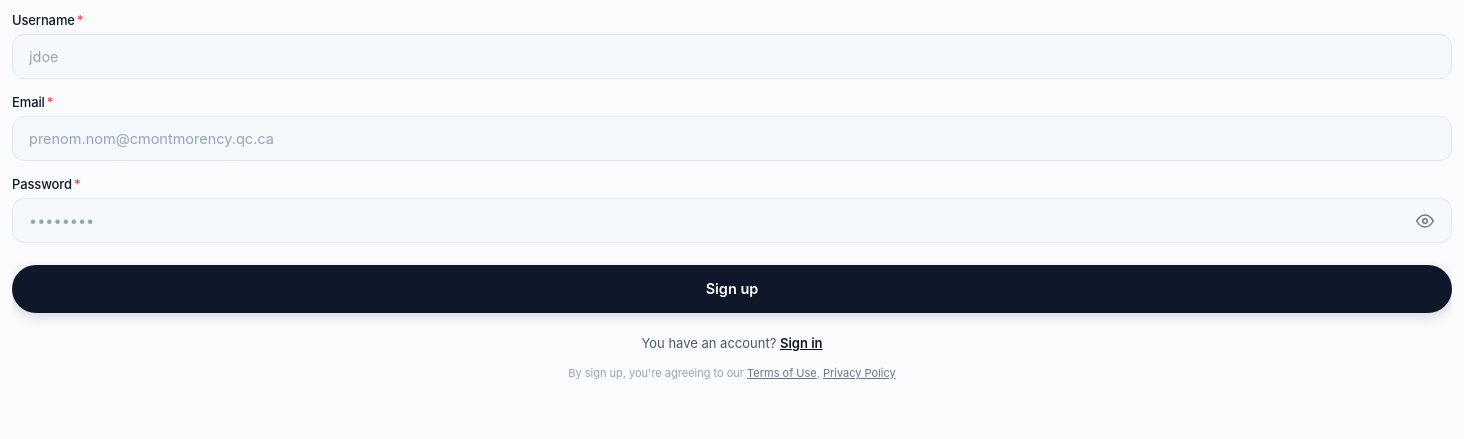
Test case: LoginForm — inscription › refuse un nom d’utilisateur trop court et un mot de passe de moins de 8 caractères
Type "jd" into the field labelled "Username*" at (732, 56), box [12,34,1452,79]
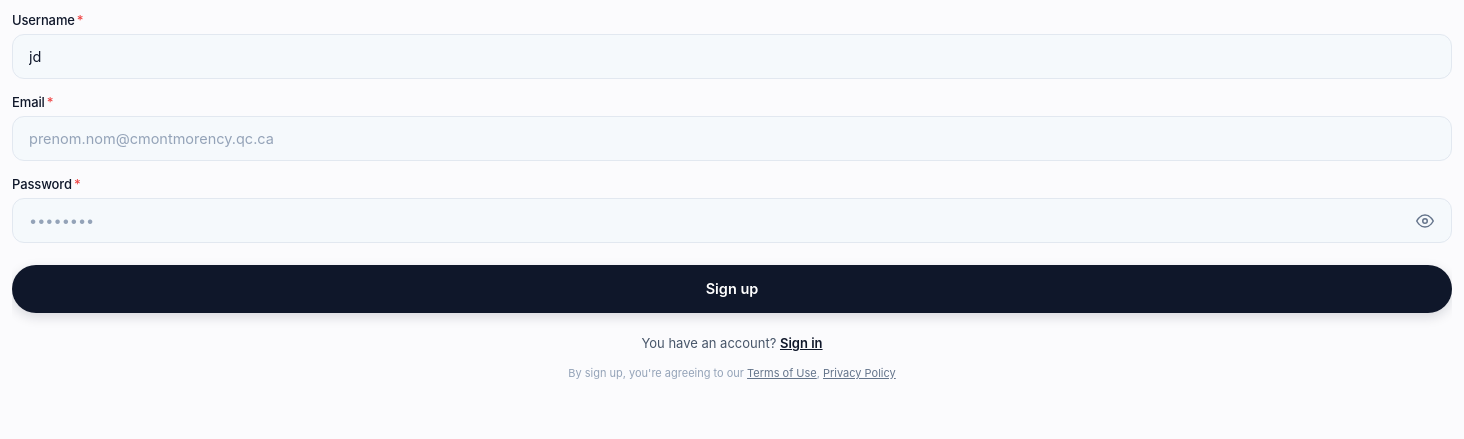
Type "jdoe@cmontmorency.qc.ca" into the field labelled "Email*" at (732, 138), box [12,116,1452,161]
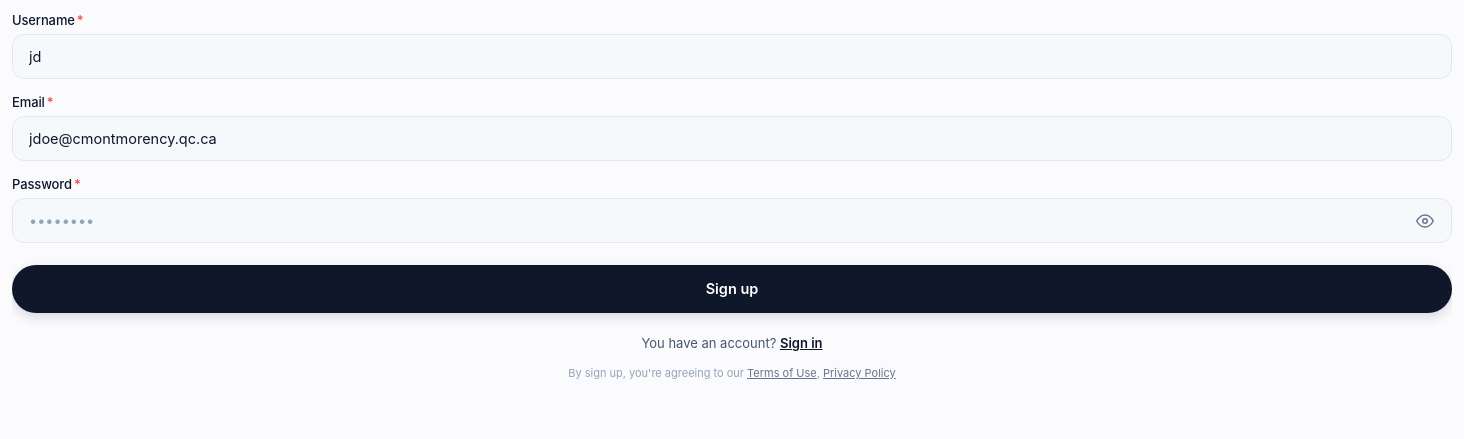
Type "court" into the password field labelled "Password*" at (732, 220), box [12,198,1452,243]
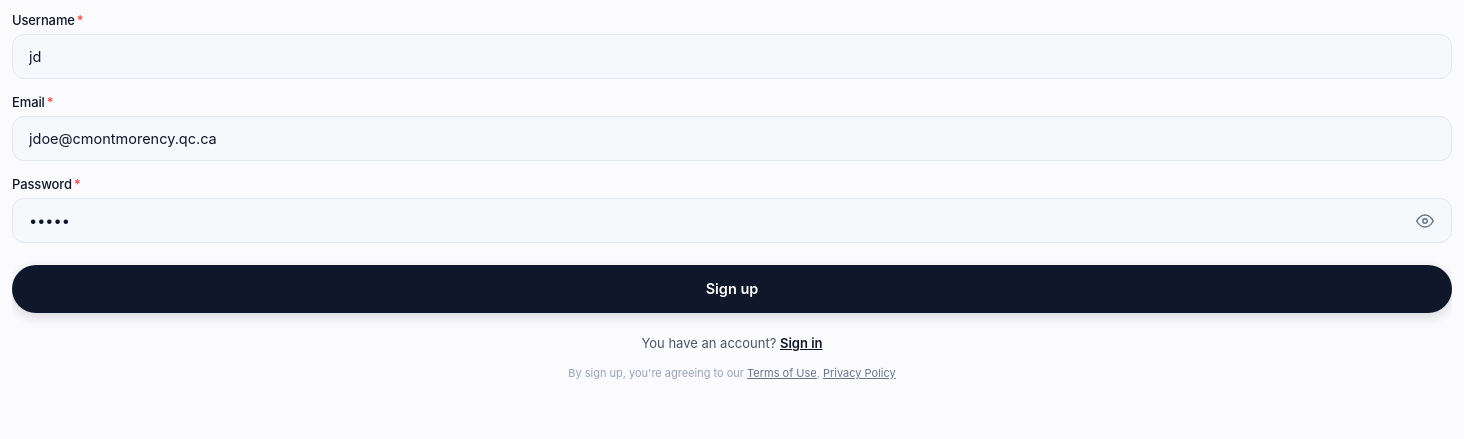
Click the button "Sign up" at (732, 289), box [12,265,1452,313]
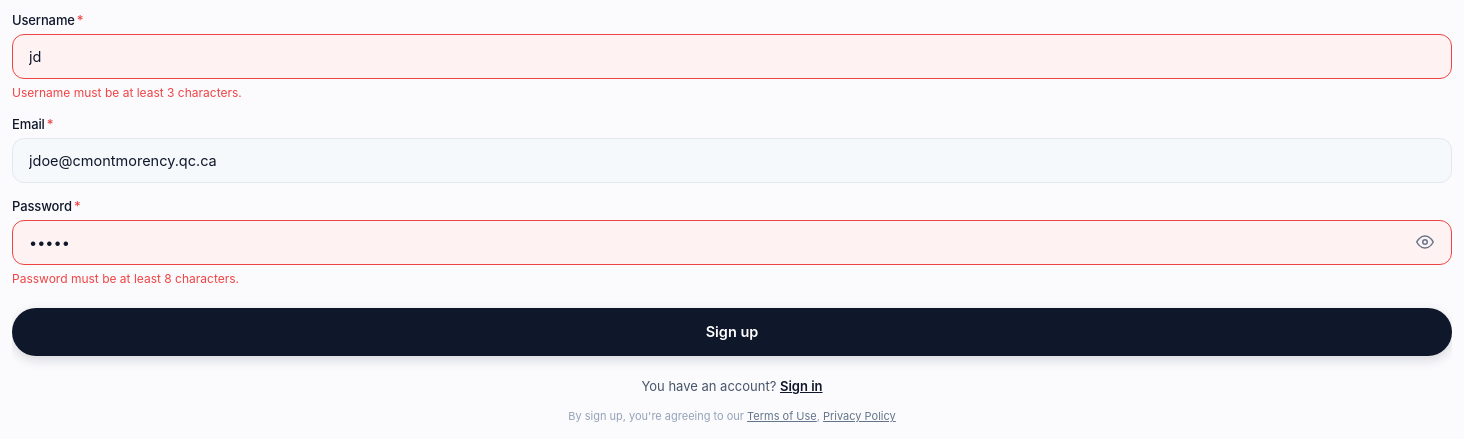
Check: the text "Username must be at least 3 characters." is shown, box [12,85,242,100]
Check: the text "Password must be at least 8 characters." is shown, box [12,271,239,286]
